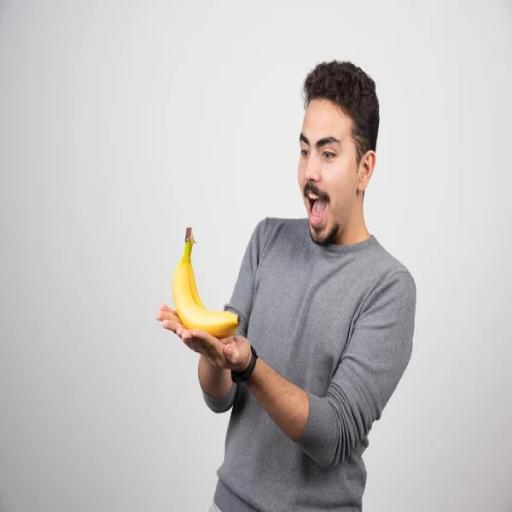banana: (173, 228, 238, 339)
